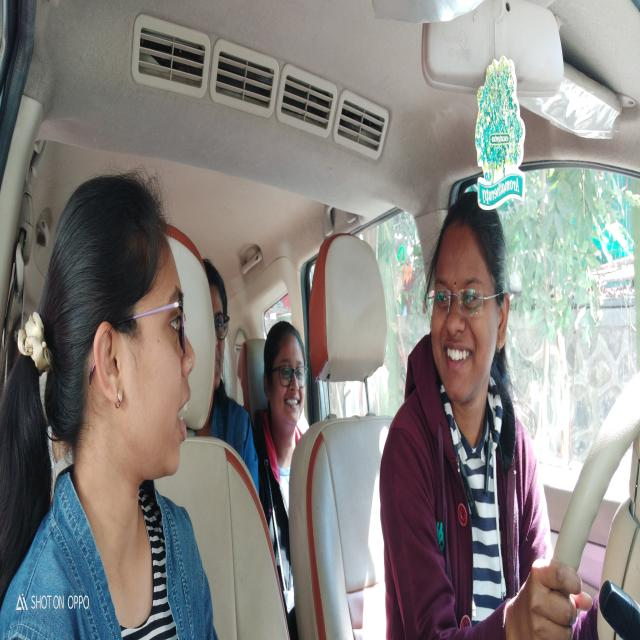LeftRight: (422, 176, 510, 444)
person: (41, 149, 196, 504), (264, 315, 310, 436), (204, 252, 230, 424)
talking: (438, 331, 479, 373), (172, 382, 192, 453)
